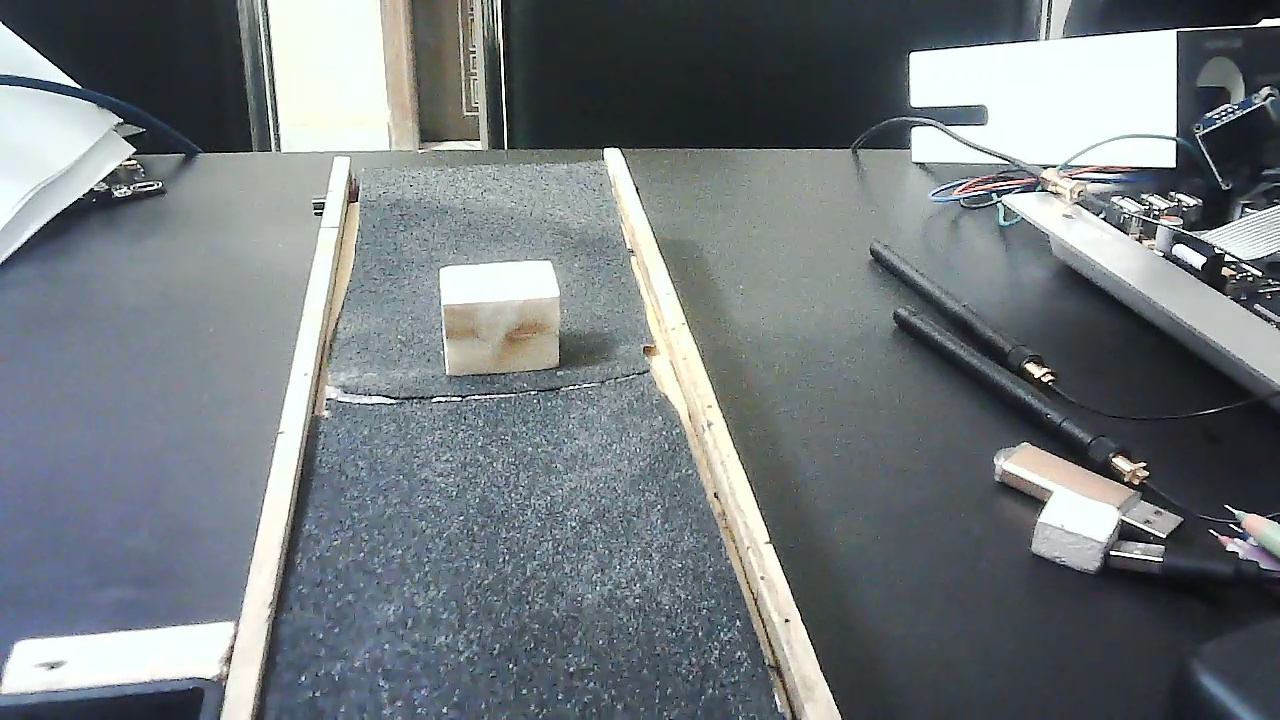Medium: (437, 257, 562, 382)
